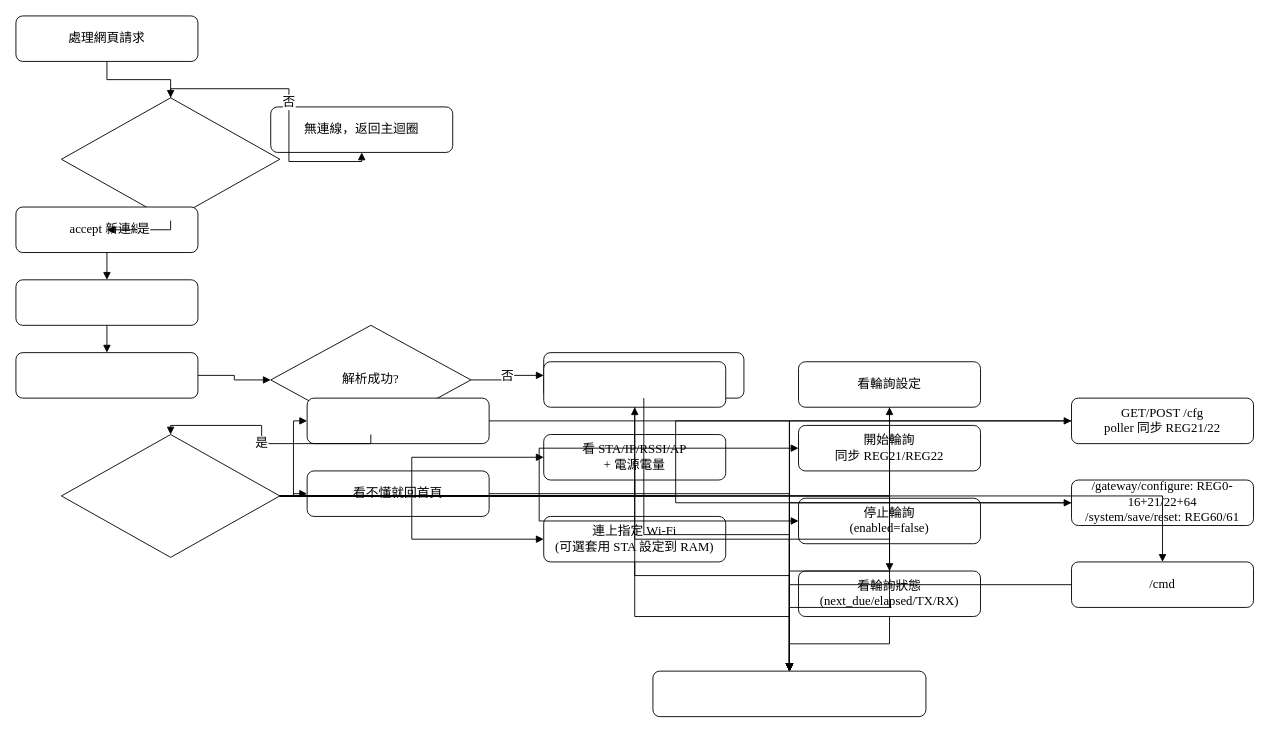
Some shapes in this 1269 by 733 pixel diagram are drawn without their labels. Each missing label, with the centre of its shape:
依 path 分流: point (170, 495)
回首頁(網頁): point (397, 420)
掃描 Wi‑Fi: point (634, 384)
有客戶端連線?: point (170, 159)
解析 method/path: point (106, 375)
讀取 HTTP 請求: point (106, 302)
關閉 client 連線 (cl.close): point (789, 693)
